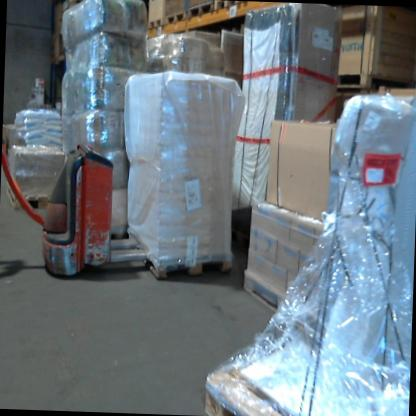pallet: (202, 338, 320, 416), (126, 227, 237, 283), (240, 268, 323, 336), (337, 71, 416, 92), (6, 182, 52, 213), (188, 2, 218, 21), (165, 8, 189, 26), (211, 0, 248, 11), (148, 17, 169, 31)
pallet_truck: (0, 141, 152, 282)
